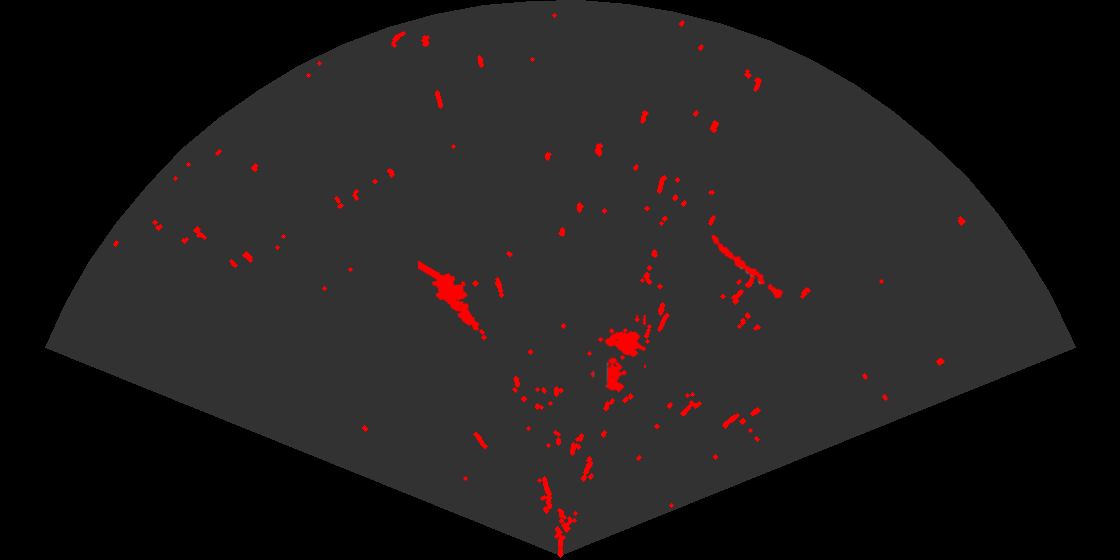cage: (589, 315, 646, 394)
chain: (710, 233, 785, 300)
frogman: (418, 261, 481, 332)
